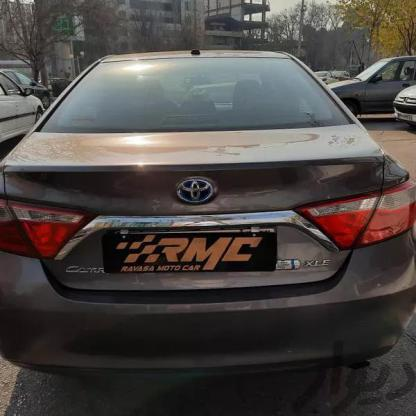Car: (0, 61, 416, 374), (301, 56, 416, 135), (0, 54, 64, 149), (385, 64, 416, 147)
